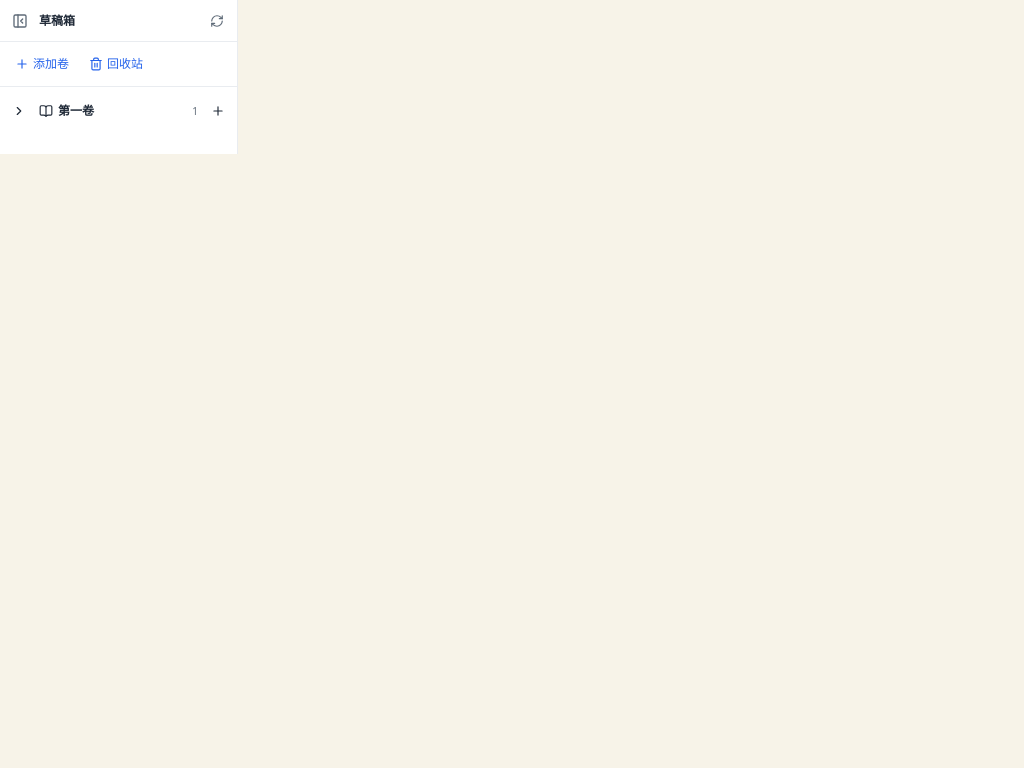
two-level prose directory › moves a chapter through the explicit assignment channel and preserves the dialog after failure
The image size is (1024, 768).
Click the 1st button with class "chapter-outline-arrow": {"x": 19, "y": 111} [6,96,32,126]
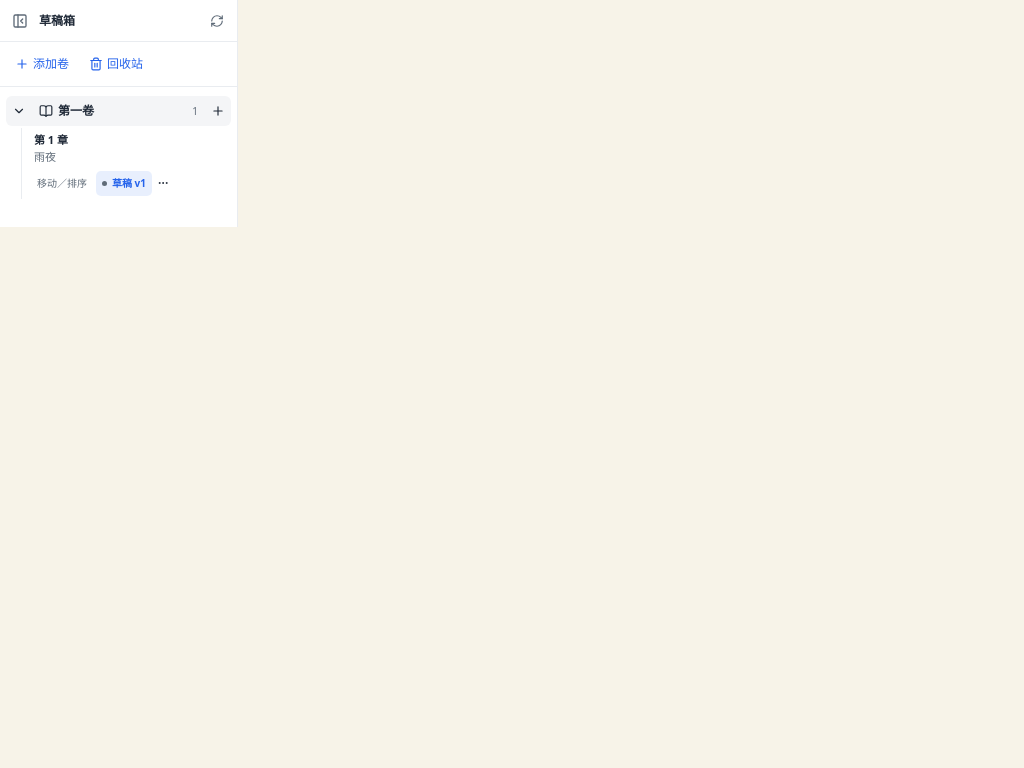
Click the button with aria-label "移动第 1 章到卷": {"x": 62, "y": 183} [31,171,93,196]
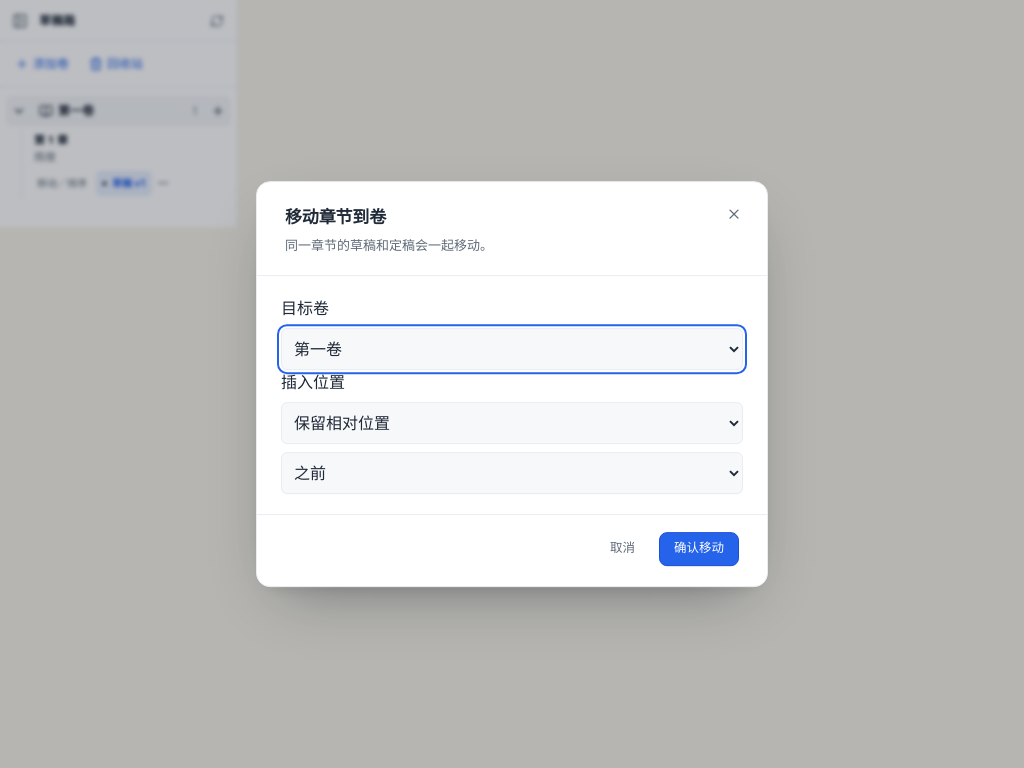
Select "未归卷" in the dropdown labelled "目标卷": {"x": 512, "y": 349} [281,328,743,370]
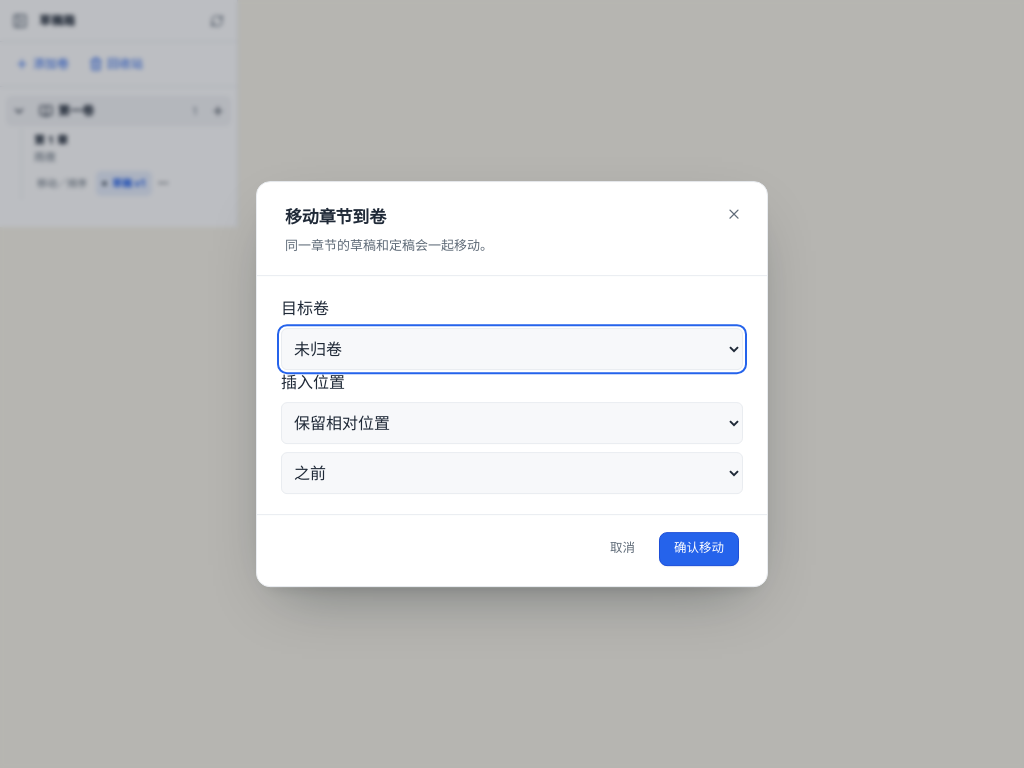
Click the button "确认移动": {"x": 699, "y": 549} [659,532,739,566]
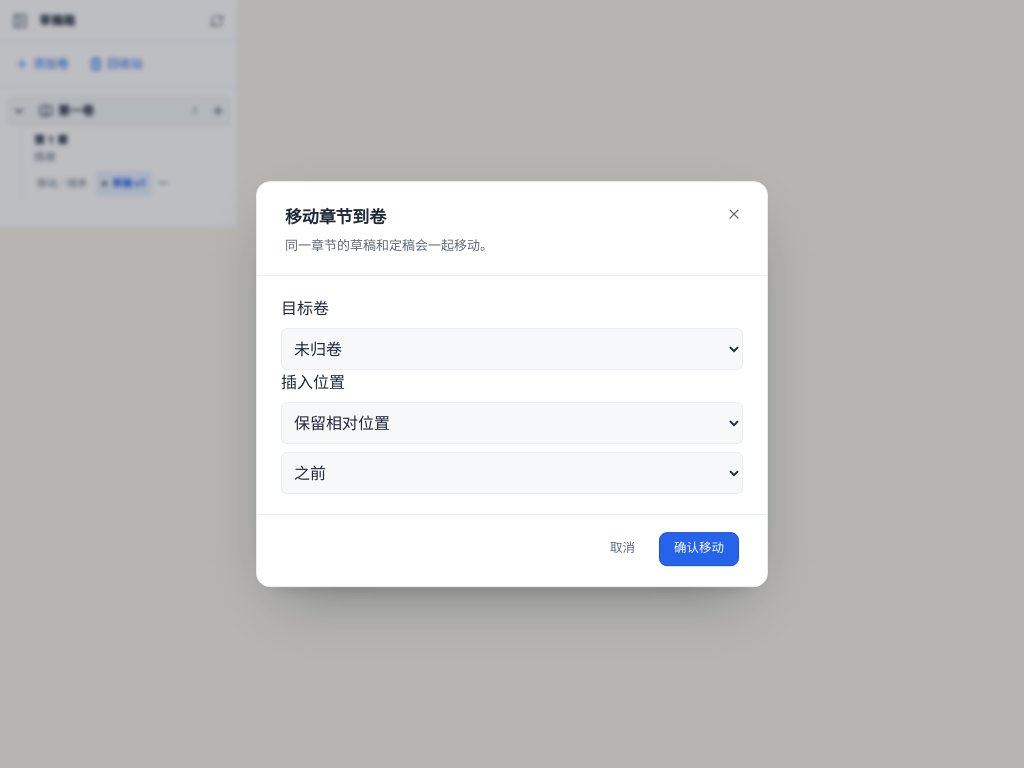
Click the button "确认移动": {"x": 699, "y": 549} [659,532,739,566]
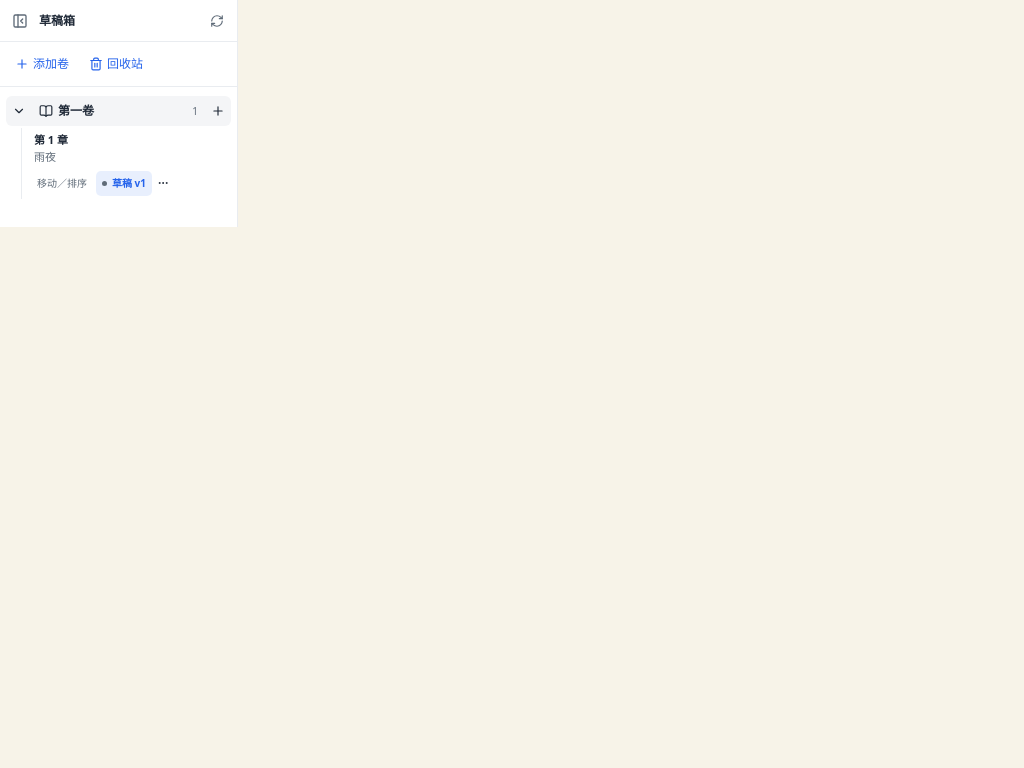
Now the label is gone
